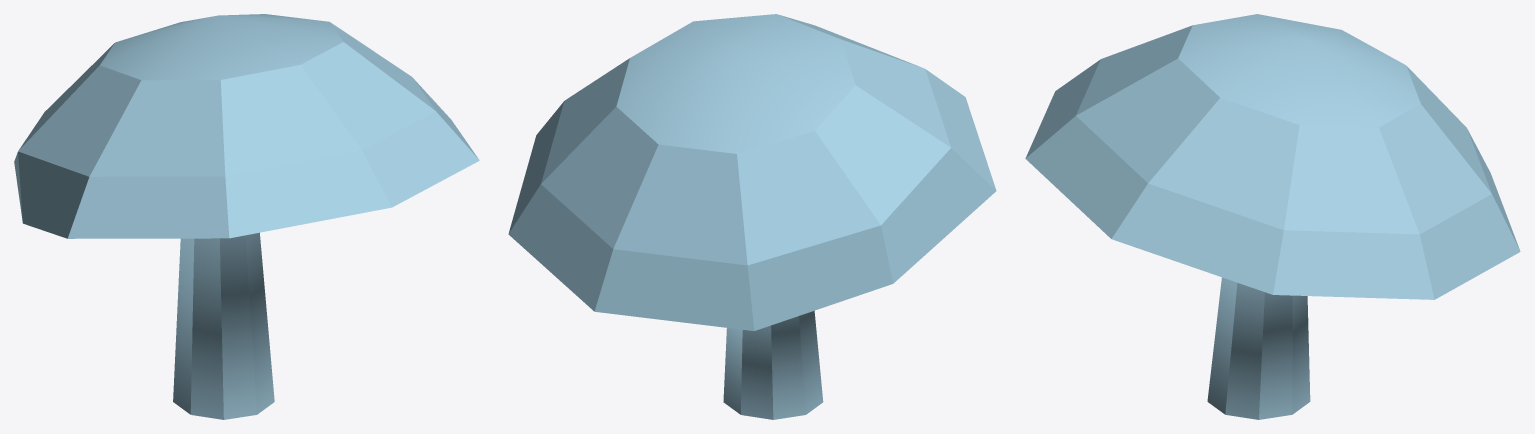
The model's file is Moonlight-mushroom1.fbx.
The picture shows the model from 3 angles, left to right: view 1: azimuth 30°, elevation 25°; view 2: azimuth 150°, elevation 25°; view 3: azimuth 270°, elevation 25°; orthographic projection. The views are drawn at different scales.
Visible parts, largest first — view 1: pCylinder3; view 2: pCylinder3; view 3: pCylinder3.
Boxes of the visible parts, x1,y1,x2,y2 form: pCylinder3: (14, 14, 479, 419); pCylinder3: (508, 14, 996, 419); pCylinder3: (1025, 14, 1520, 419).
Bounding box in the file's own units: 9.51 × 7.69 × 9.45.
